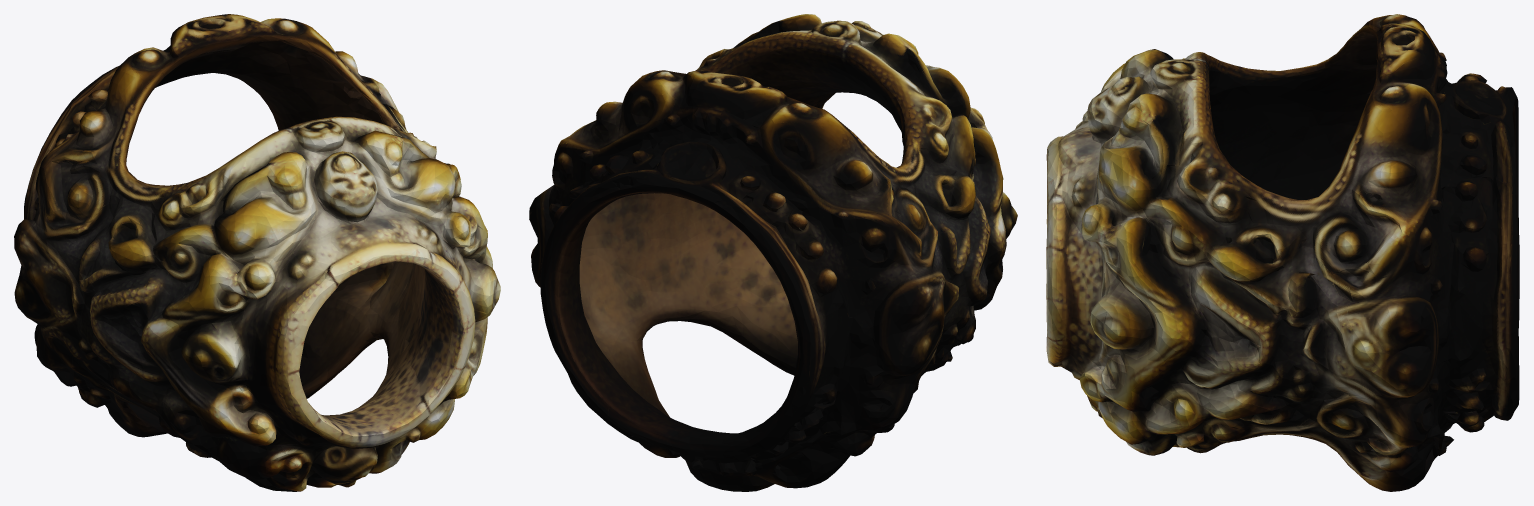
Rendered from stone-ring-aged-hyperrealistic-furniture.jpeg.glb.
3 views of the same model, side by side, from view 1: azimuth 30°, elevation 25°; view 2: azimuth 150°, elevation 25°; view 3: azimuth 270°, elevation 25° (orthographic). The views are drawn at different scales.
Visible parts, largest first — view 1: world; view 2: world; view 3: world.
Boxes of the visible parts, x1,y1,x2,y2 form: world: [14, 14, 500, 491]; world: [529, 14, 1017, 491]; world: [1046, 14, 1519, 491].
Size of the model in its own units: 0.9989 by 0.9852 by 0.9866.
1 material, 1 textured.
